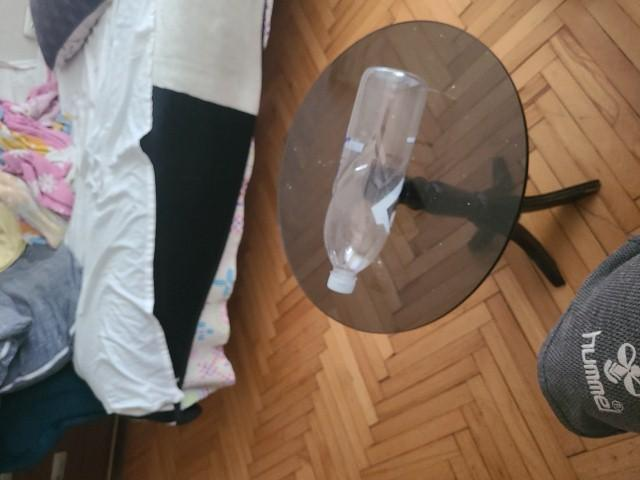plastic_bottle: (248, 243, 552, 322)
